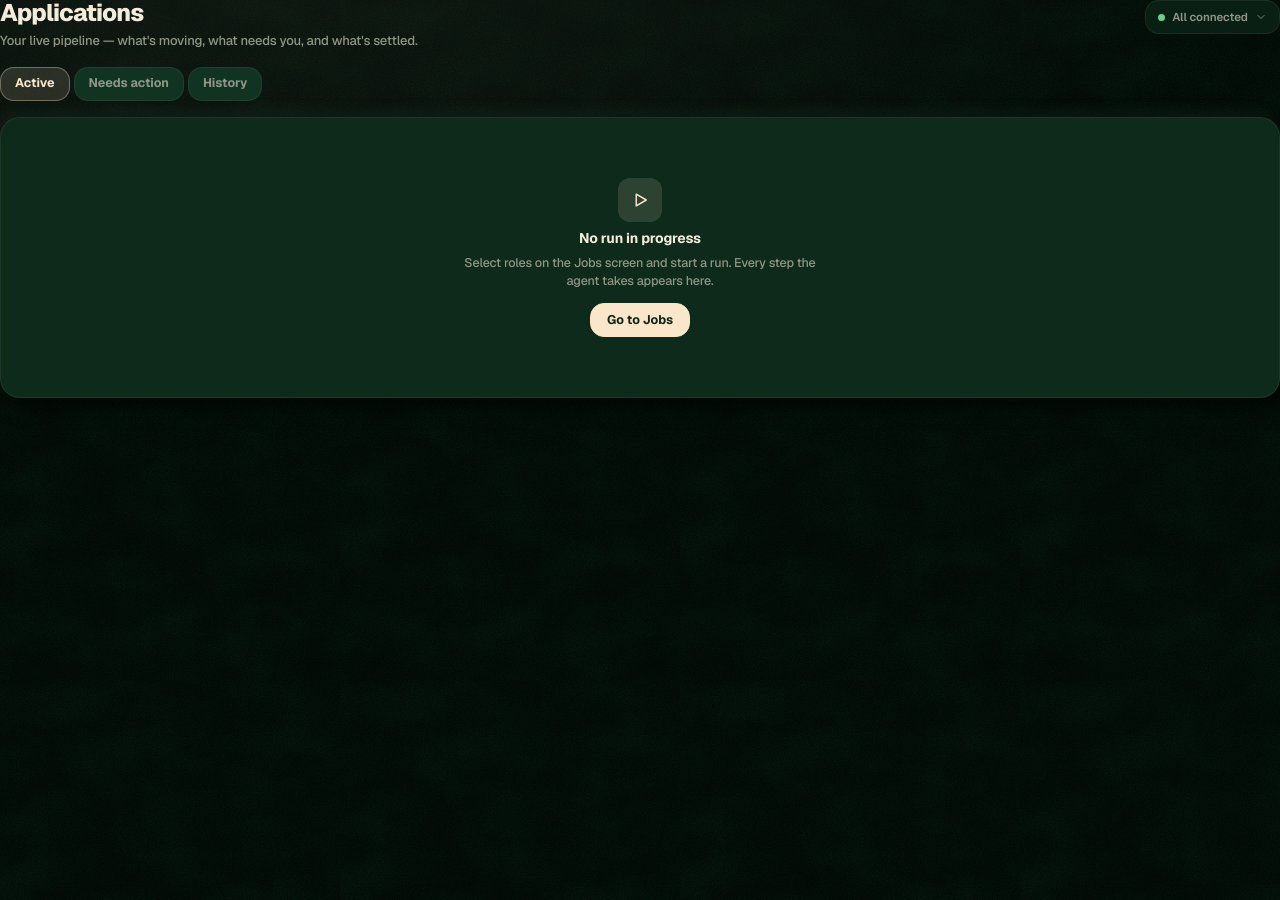
Test: ApplicationsPage — merged Active / Needs action / History › History tab shows settled applications in the table view, not the card view
Click the tab "History" at (225, 84), box [188,67,262,101]
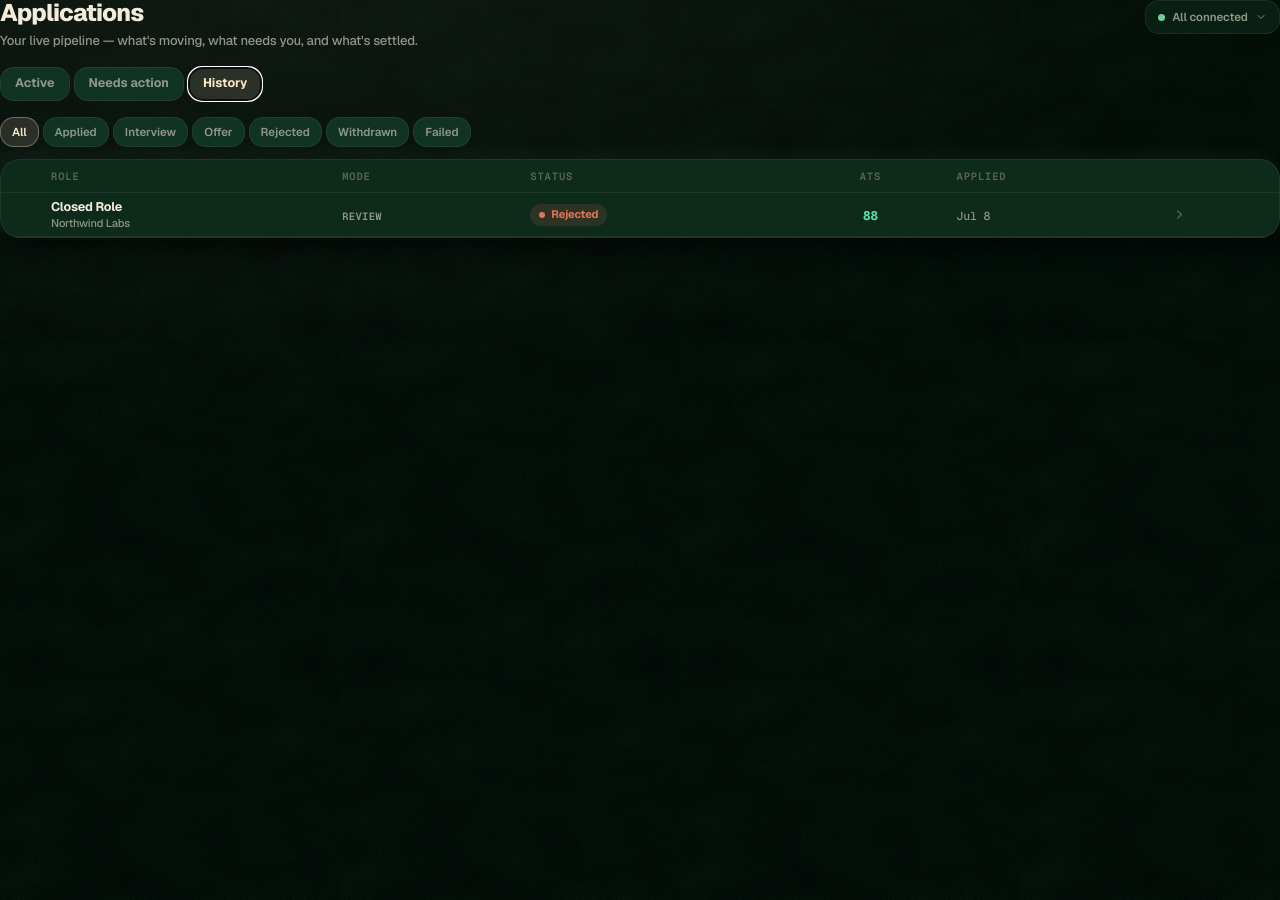
Result: the text "Closed Role" is shown at [51,198,122,215]
Result: the column heading "Role" is shown at [35,160,326,193]
